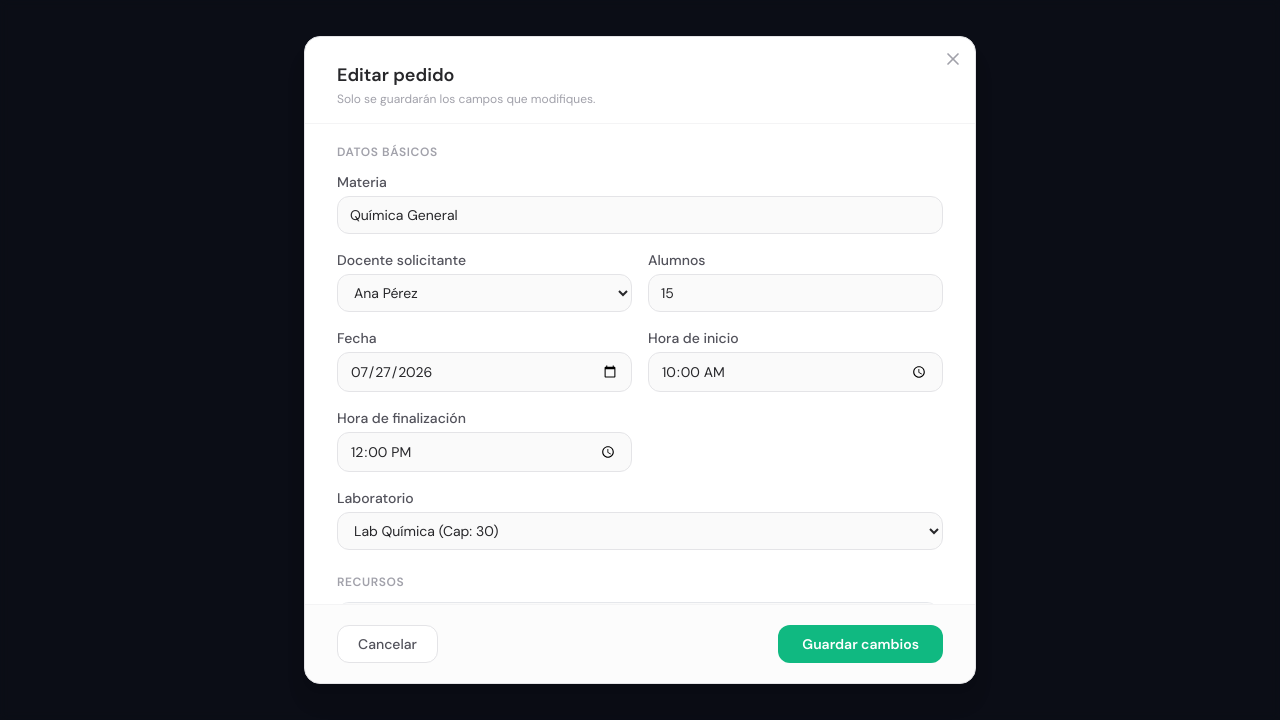
it: EditarPedidoForm Component › rechaza una cantidad de alumnos menor o igual a cero
Replace the text in the number field showing "15" with "0". click: (796, 293)
box: [648,274,943,312]
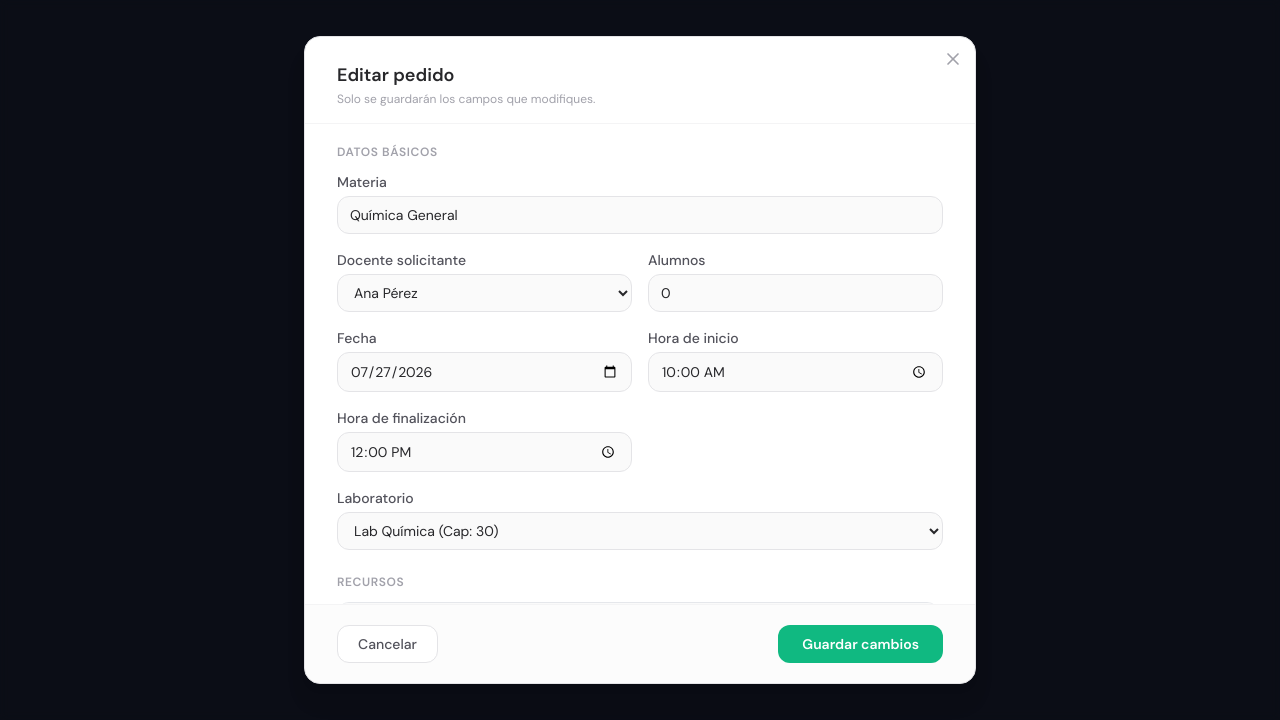
Click the button "Guardar cambios". click: (861, 644)
box: [778,625,943,663]
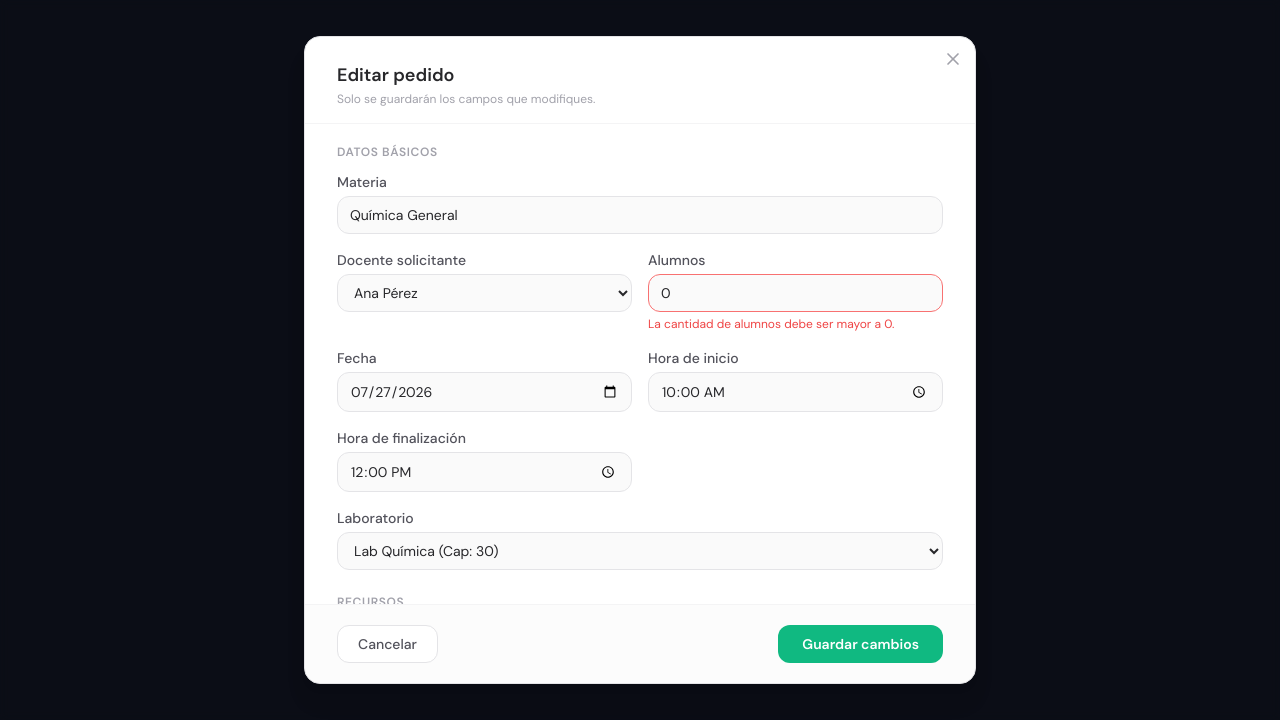
Expected: the text "La cantidad de alumnos debe ser mayor a 0." is shown, [648,316,894,332]
